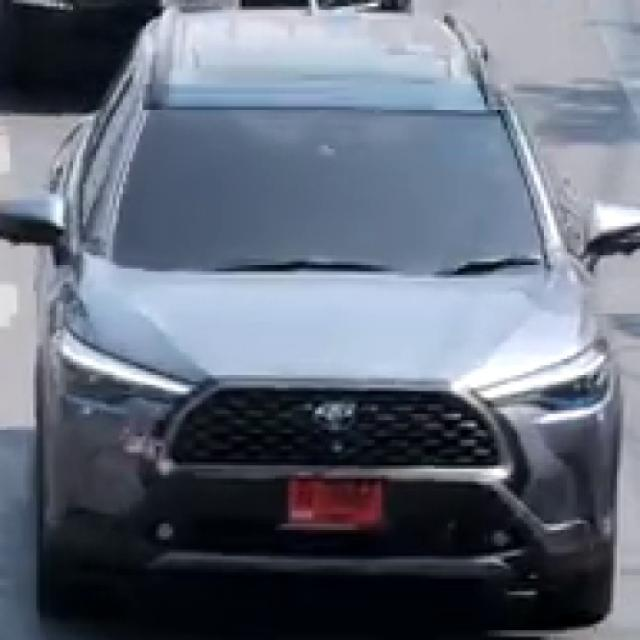plate: (284, 477, 388, 532)
